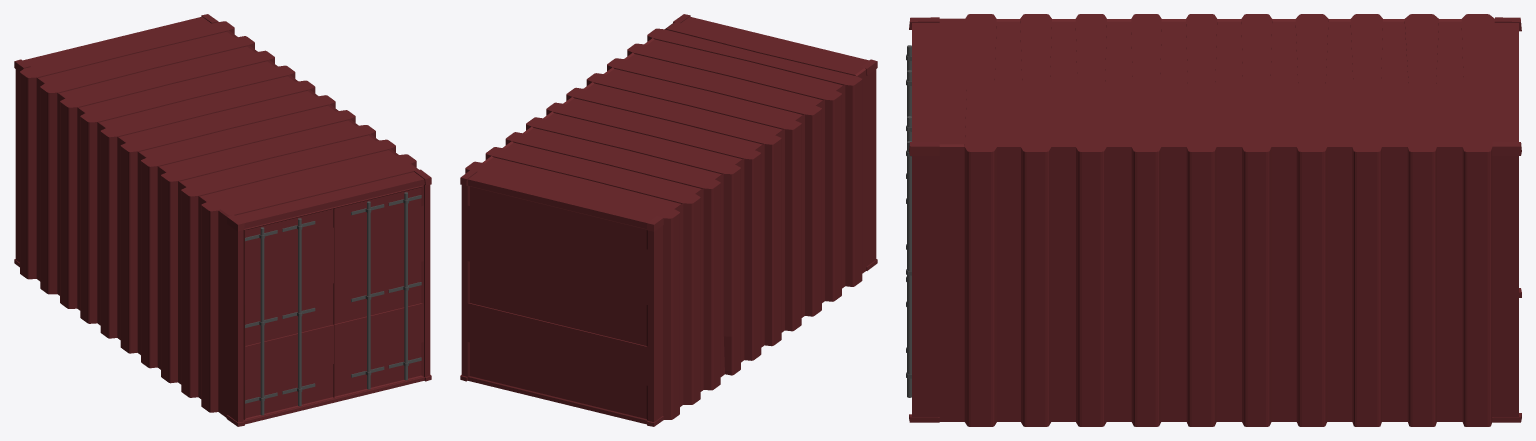
3 renders of one model, left to right at view 1: azimuth 30°, elevation 25°; view 2: azimuth 150°, elevation 25°; view 3: azimuth 270°, elevation 25°, orthographic. The views are drawn at different scales.
Visible parts, largest first — view 1: Cube, Cylinder.003, Cylinder, Cylinder.001, Cylinder.002; view 2: Cube; view 3: Cube, Cylinder.
Boxes of the visible parts, x1,y1,x2,y2 form: Cube: (14, 14, 431, 426); Cylinder.003: (260, 227, 264, 415); Cylinder: (404, 192, 407, 380); Cylinder.001: (367, 201, 370, 389); Cylinder.002: (298, 218, 301, 406); Cube: (460, 14, 877, 426); Cube: (909, 14, 1521, 426); Cylinder: (907, 141, 911, 397).
Bounding box in the file's own units: 430 × 402 × 812.
